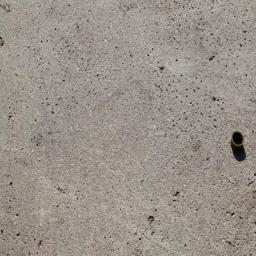FOD: (231, 129, 250, 164)
